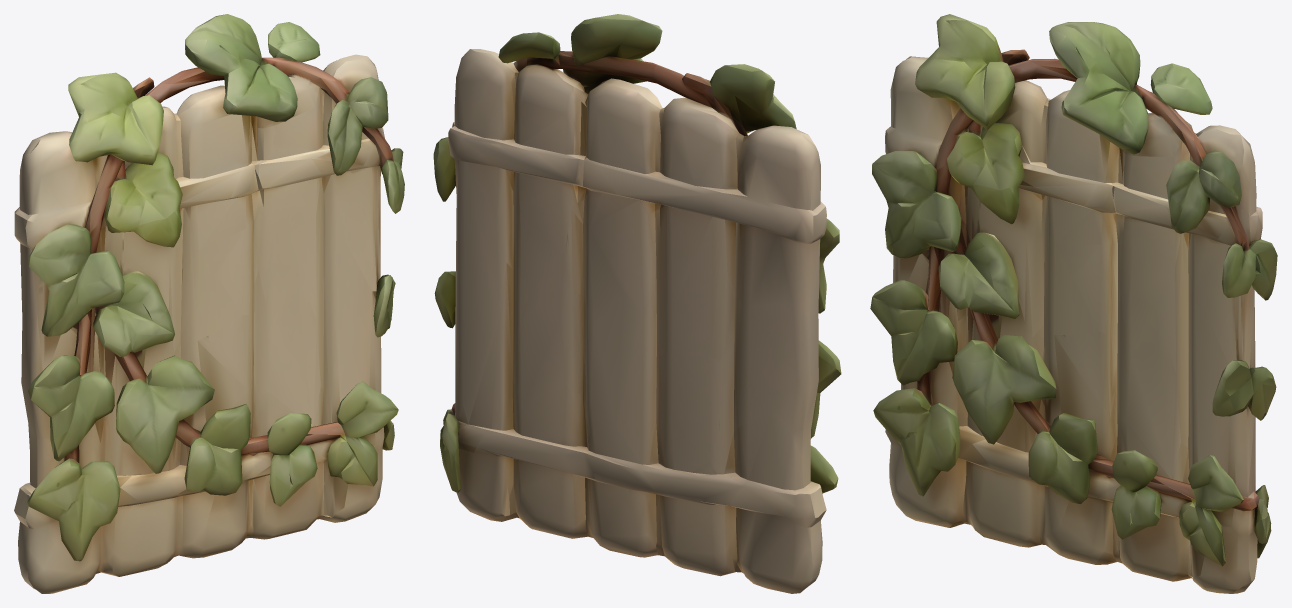
Rendered from climbing_ivy.glb.
3 renders of one model, left to right at view 1: azimuth 30°, elevation 25°; view 2: azimuth 150°, elevation 25°; view 3: azimuth 330°, elevation 25°, orthographic.
Parts seen in each view (by area): view 1: tripo_node_453d7f7d-0bde-4f2c-9588-d73590c52e5a; view 2: tripo_node_453d7f7d-0bde-4f2c-9588-d73590c52e5a; view 3: tripo_node_453d7f7d-0bde-4f2c-9588-d73590c52e5a.
Part boxes in pixels (x1=…): tripo_node_453d7f7d-0bde-4f2c-9588-d73590c52e5a: x1=14, y1=14, x2=404, y2=593; tripo_node_453d7f7d-0bde-4f2c-9588-d73590c52e5a: x1=433, y1=14, x2=841, y2=593; tripo_node_453d7f7d-0bde-4f2c-9588-d73590c52e5a: x1=870, y1=14, x2=1277, y2=593.
Size of the model in its own units: 0.6488 by 0.8503 by 0.1196.
1 material, 1 textured.
